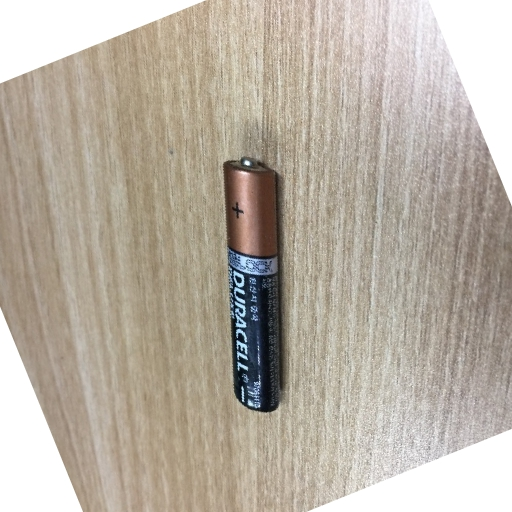Battery_0: (209, 140, 306, 435)
